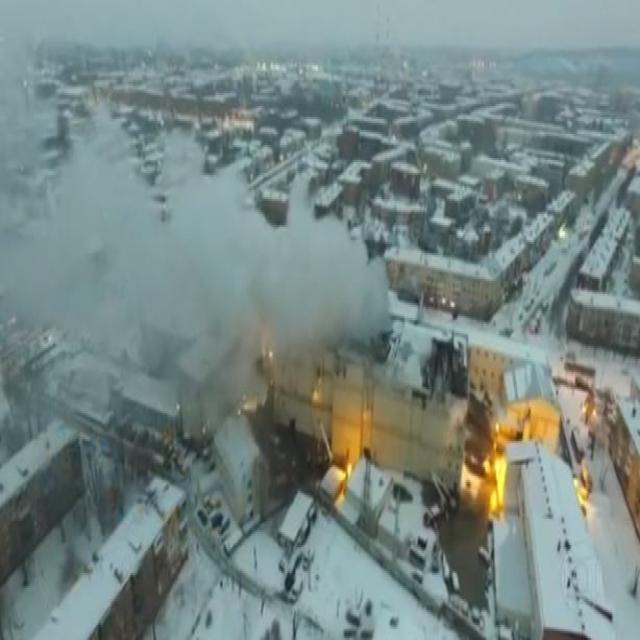Fire: (488, 454, 506, 516), (572, 478, 588, 506), (346, 461, 353, 478), (312, 388, 320, 401), (268, 350, 274, 360), (495, 422, 499, 432)
Smoke: (10, 126, 391, 367), (0, 0, 43, 179)
